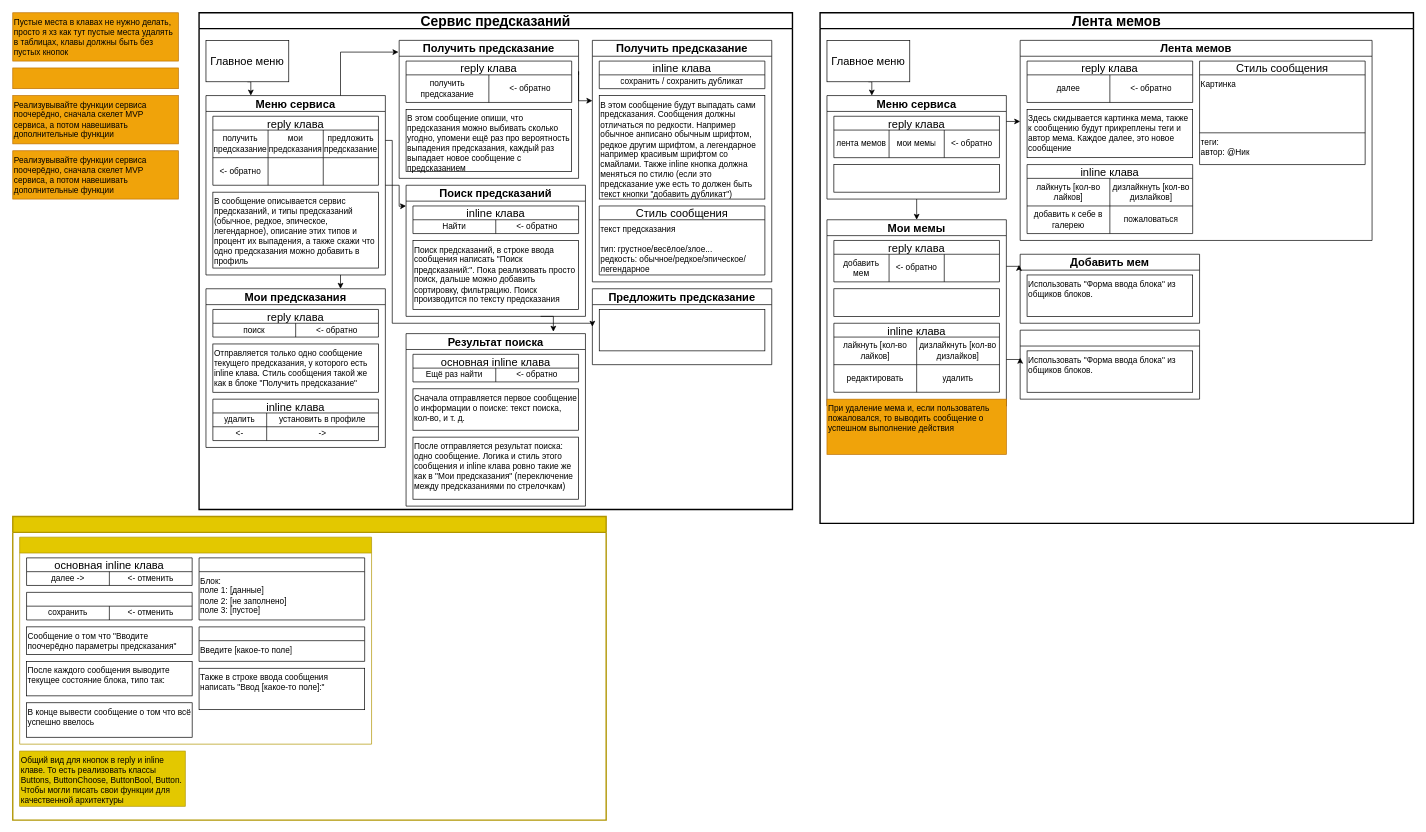
Image size: 1426x832. Some labels were removed from this diagram. Here are the shapes that lost their labels. From the top down, the box of each, then its label:
(12, 67, 178, 89): Если что непонятно, сразу спрашивайте
(833, 164, 999, 192): В сообщение описывается сервис мемов, и какие здесь функции есть
(833, 288, 999, 316): Одно сообщение, переключение своих мемов черех стрелки
(599, 309, 765, 351): Использовать "Форма ввода блока" из общиков блоков. для ввода предсказания
(1019, 329, 1200, 399): Редактировать мем
(26, 592, 192, 620): конечная inline клава
(198, 557, 365, 620): Стиль сообщения 1
(19, 536, 372, 744): Форма ввода блока
(198, 626, 365, 661): Стиль сообщения 2
(12, 515, 607, 820): Общие блоки сообщений и классы для реализации
